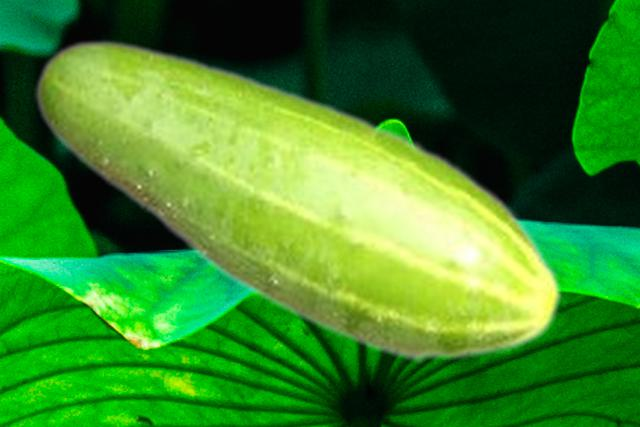cucumber: (34, 38, 563, 364)
